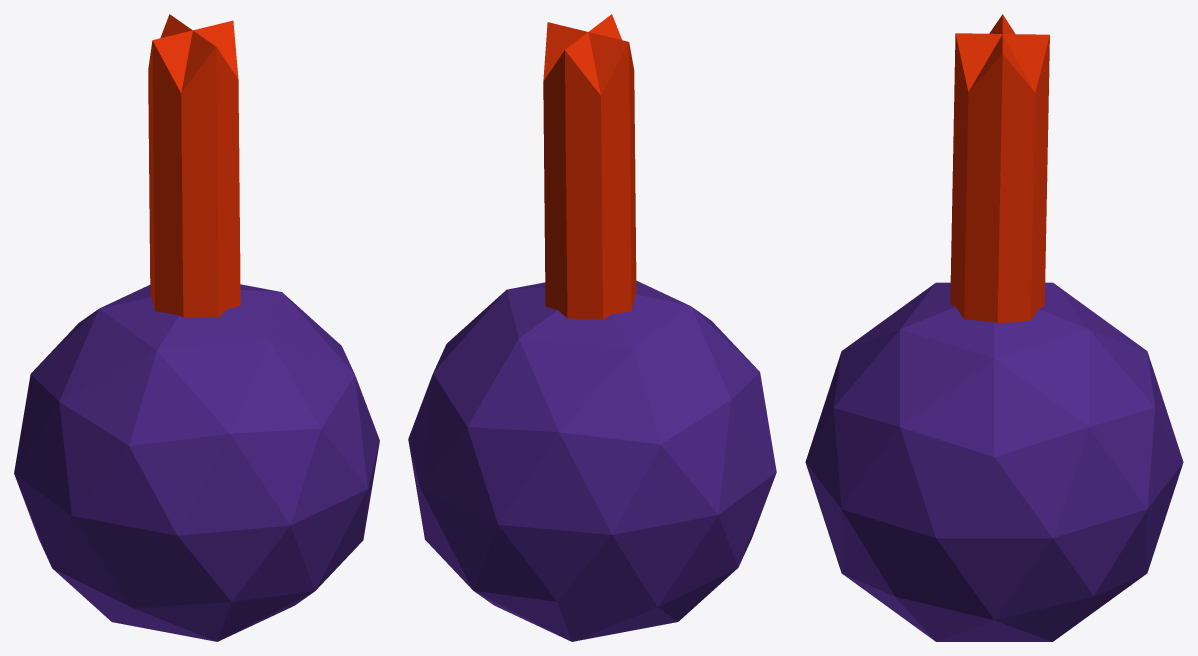
File: CMP.glb
The picture shows the model from 3 angles, left to right: view 1: azimuth 30°, elevation 25°; view 2: azimuth 150°, elevation 25°; view 3: azimuth 270°, elevation 25°; orthographic projection.
Visible parts, largest first — view 1: CMP, cytosine; view 2: CMP, cytosine; view 3: CMP, cytosine.
Part boxes in pixels (x1,y1,x2,y2): CMP: [14, 284, 379, 641]; cytosine: [148, 14, 240, 317]; CMP: [408, 280, 776, 641]; cytosine: [543, 14, 636, 319]; CMP: [805, 282, 1183, 641]; cytosine: [950, 14, 1049, 323].
Size of the model in its own units: 0.634 by 1.17 by 0.6667.
